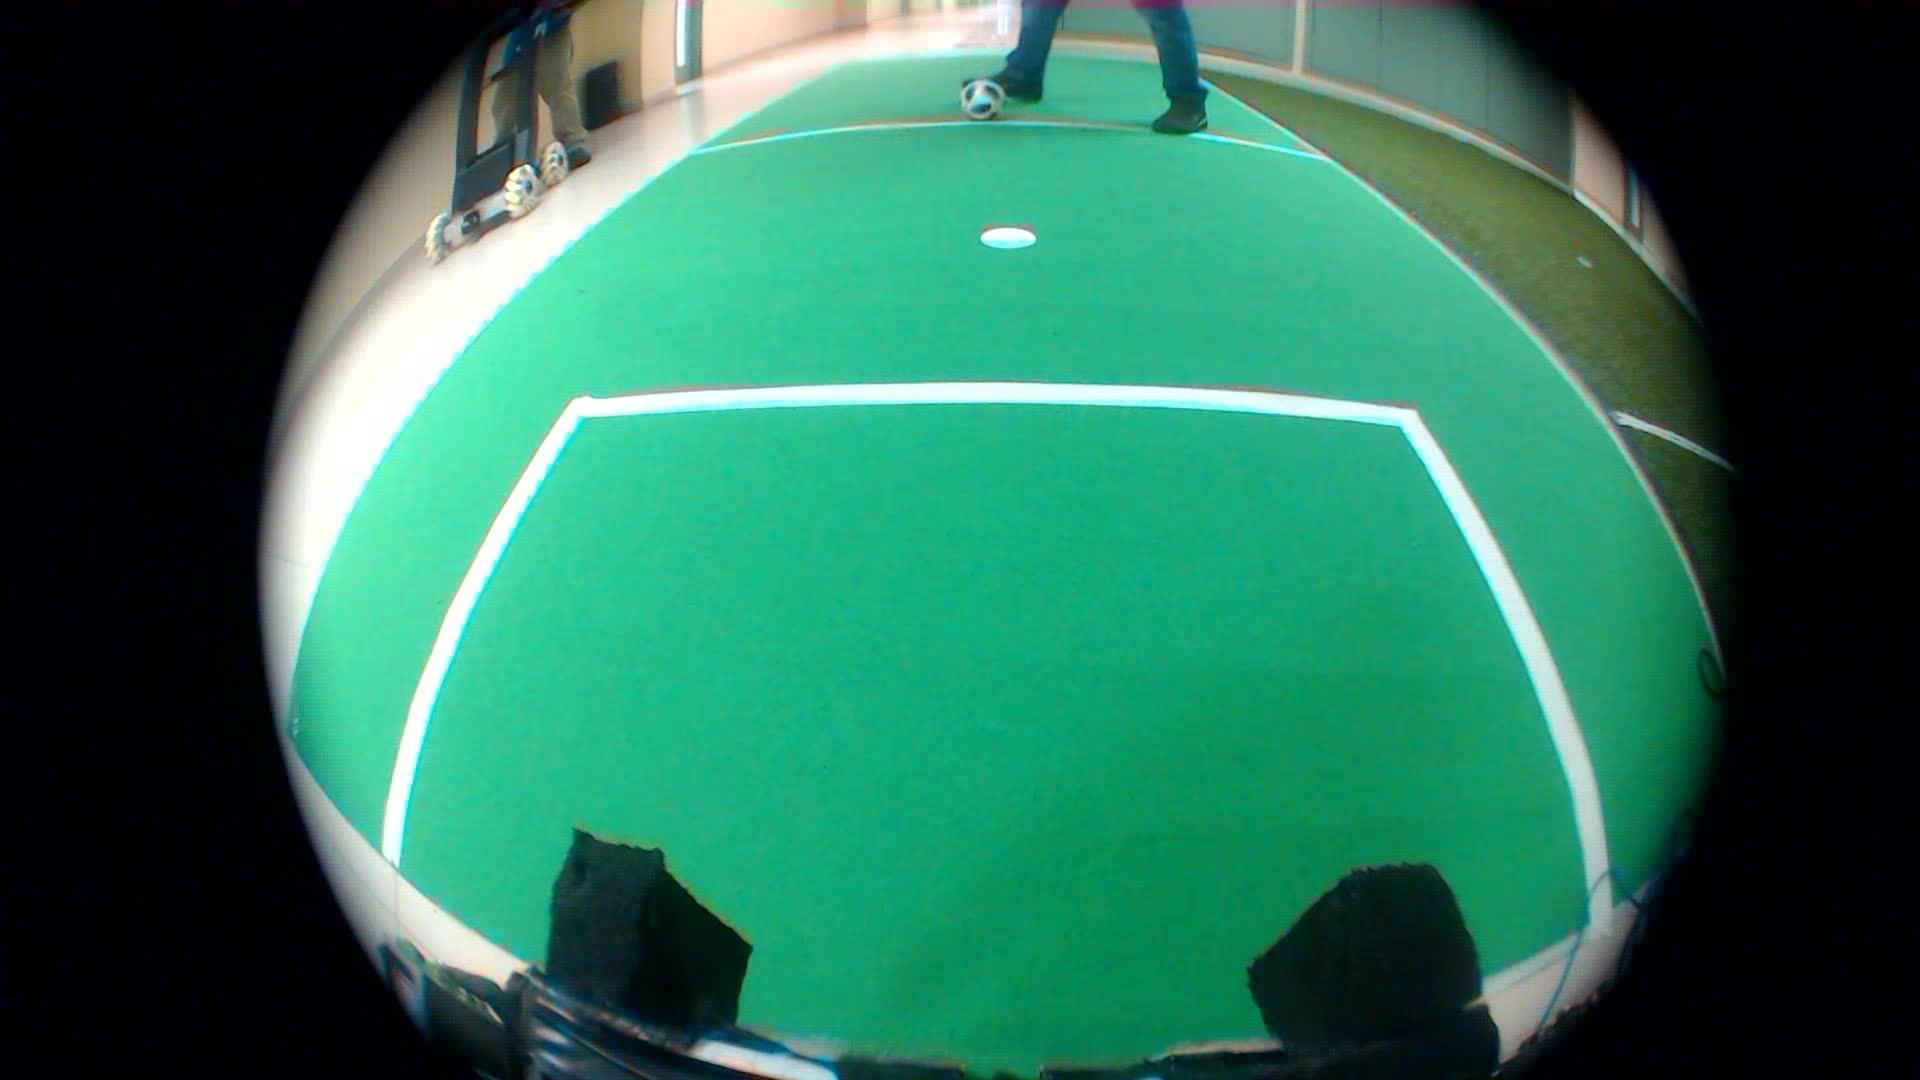ball: (963, 71, 1011, 131)
